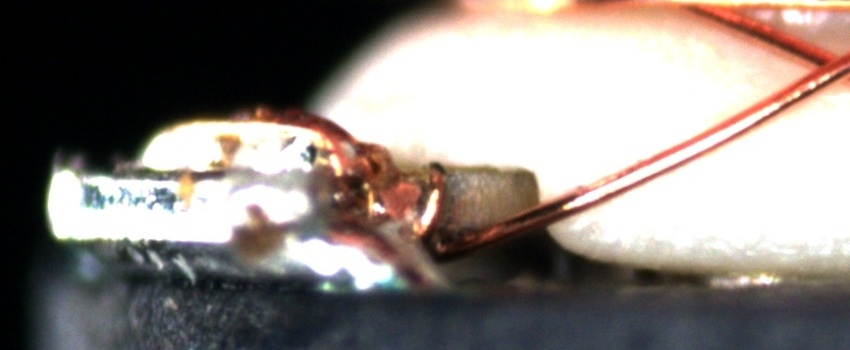CL: (794, 39, 850, 89)
TE: (225, 103, 450, 237)
